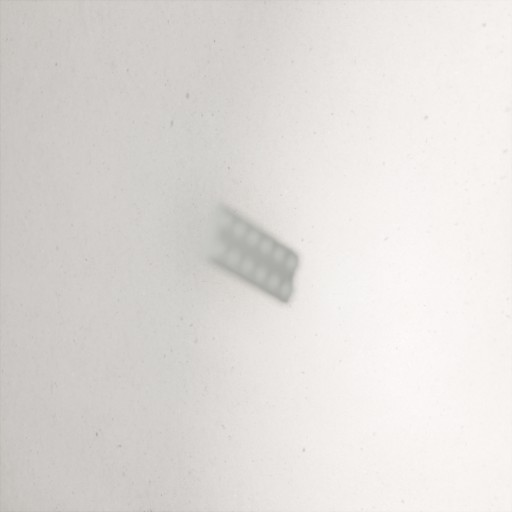lego: (201, 201, 302, 307)
